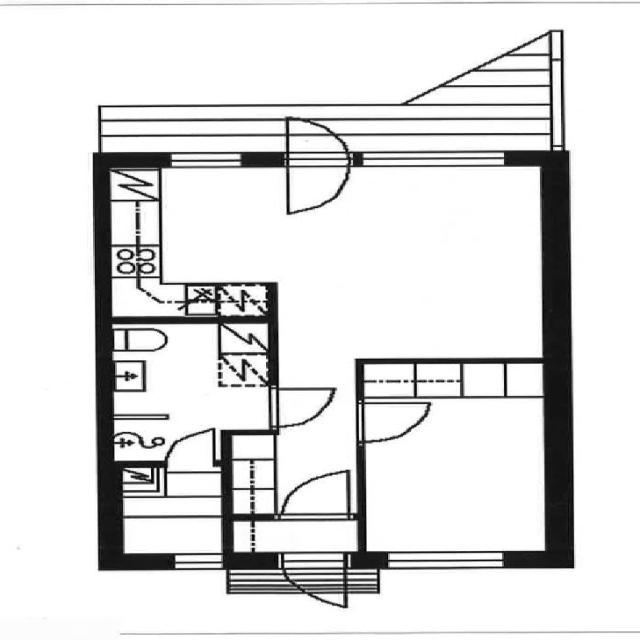door: (277, 120, 355, 216), (276, 551, 349, 610), (278, 468, 356, 520), (351, 396, 432, 445), (259, 382, 336, 432), (161, 429, 220, 472)
window: (353, 144, 519, 173), (380, 547, 515, 572), (161, 149, 252, 171), (163, 551, 226, 572)
zone: (105, 161, 549, 319), (358, 361, 549, 562), (103, 320, 277, 459), (222, 516, 364, 556)
